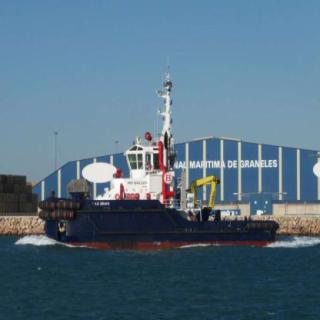Tug Boat: (31, 47, 281, 250)
